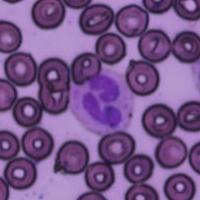N: (68, 68, 134, 135)
